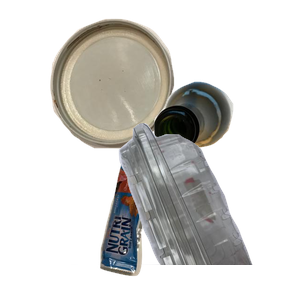glass: (151, 79, 300, 221)
metal: (47, 16, 214, 157)
plastic: (71, 120, 300, 300)
trash: (97, 152, 248, 300)
